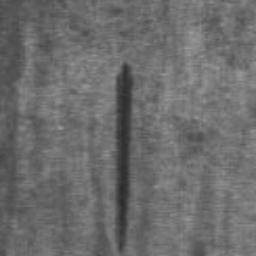Scratches: (114, 60, 134, 254)
